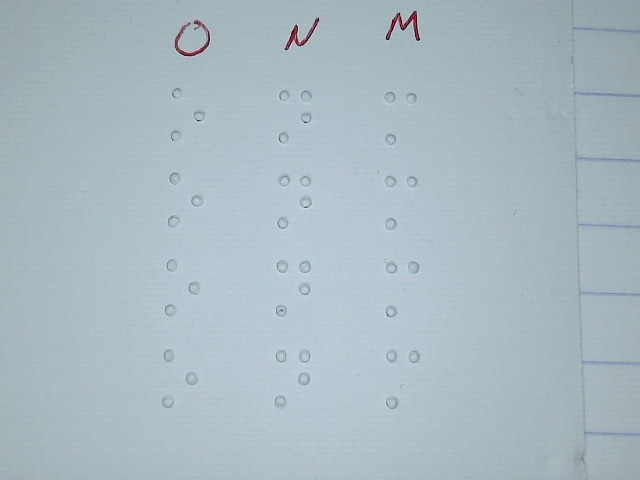M: (384, 348, 421, 408), (385, 259, 421, 317), (383, 90, 419, 145), (383, 174, 419, 229)
N: (273, 347, 312, 408), (274, 257, 312, 316), (277, 88, 313, 143), (277, 173, 313, 228)
O: (164, 257, 202, 316), (161, 349, 199, 408), (167, 170, 204, 228), (170, 87, 206, 142)
